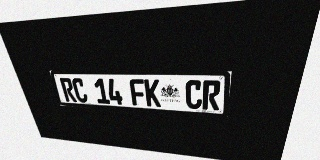1: (93, 78, 110, 104)
4: (106, 79, 123, 105)
C: (185, 80, 203, 109), (71, 78, 89, 103)
F: (129, 79, 146, 106)
K: (144, 79, 161, 107)
R: (202, 80, 221, 110), (59, 78, 77, 102)
